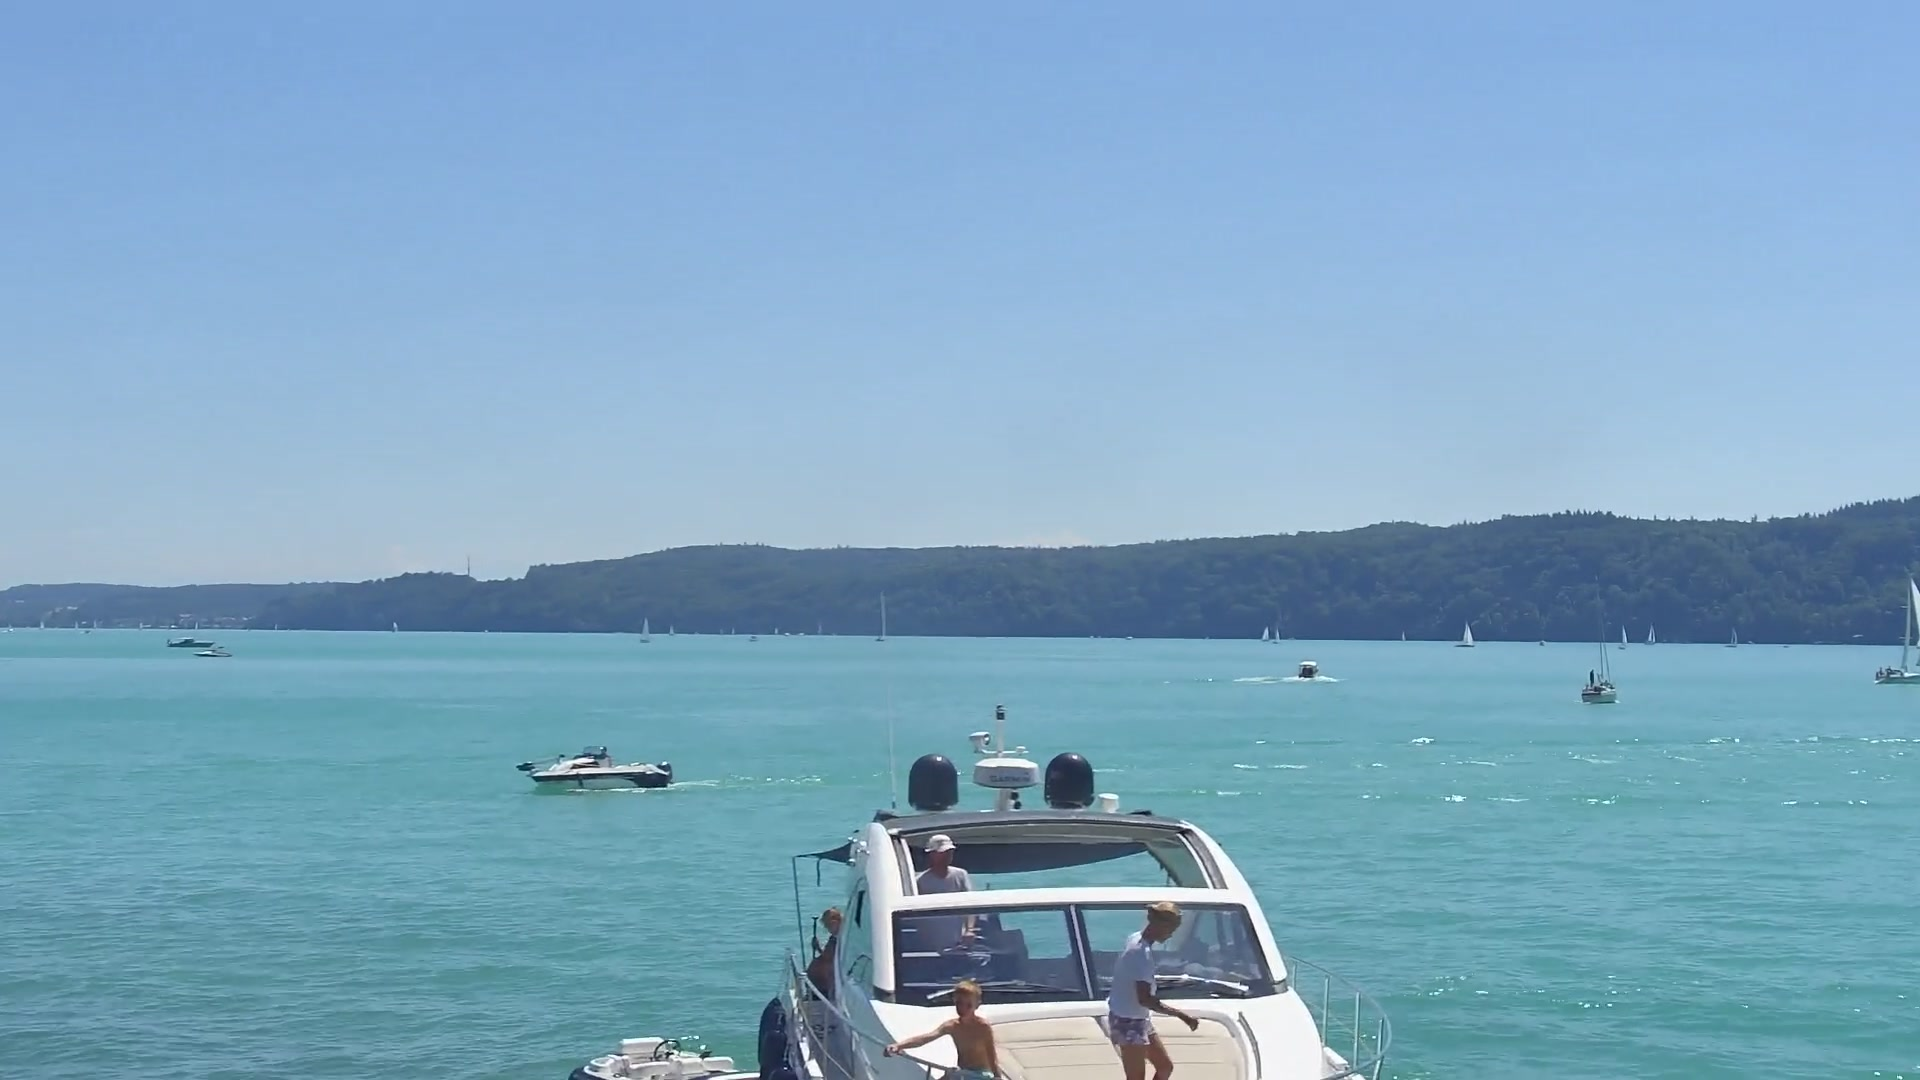human: (1107, 899, 1198, 1080), (885, 976, 1001, 1080), (914, 831, 975, 953), (805, 907, 846, 999)
sea: (754, 698, 1393, 1080), (567, 1033, 761, 1080), (515, 742, 673, 792), (1874, 575, 1920, 684), (1580, 589, 1618, 705), (874, 589, 896, 639), (1452, 620, 1476, 647), (166, 637, 216, 647), (192, 647, 232, 657), (1298, 659, 1319, 677), (1724, 626, 1739, 646), (638, 615, 649, 643), (1643, 622, 1657, 644), (1618, 625, 1628, 649), (1270, 626, 1280, 643), (1260, 624, 1270, 639), (747, 634, 759, 642), (391, 620, 398, 632), (1401, 630, 1409, 640), (668, 624, 674, 635), (1125, 635, 1134, 640), (1538, 641, 1545, 645), (1259, 641, 1267, 642)
